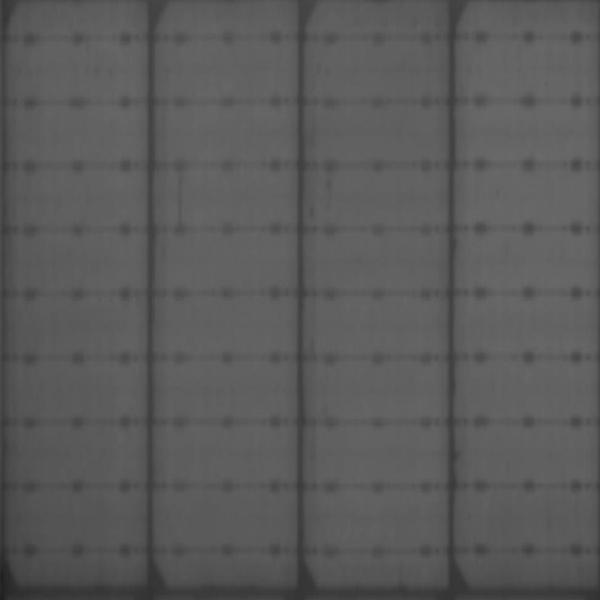scratch: (172, 168, 189, 230)
